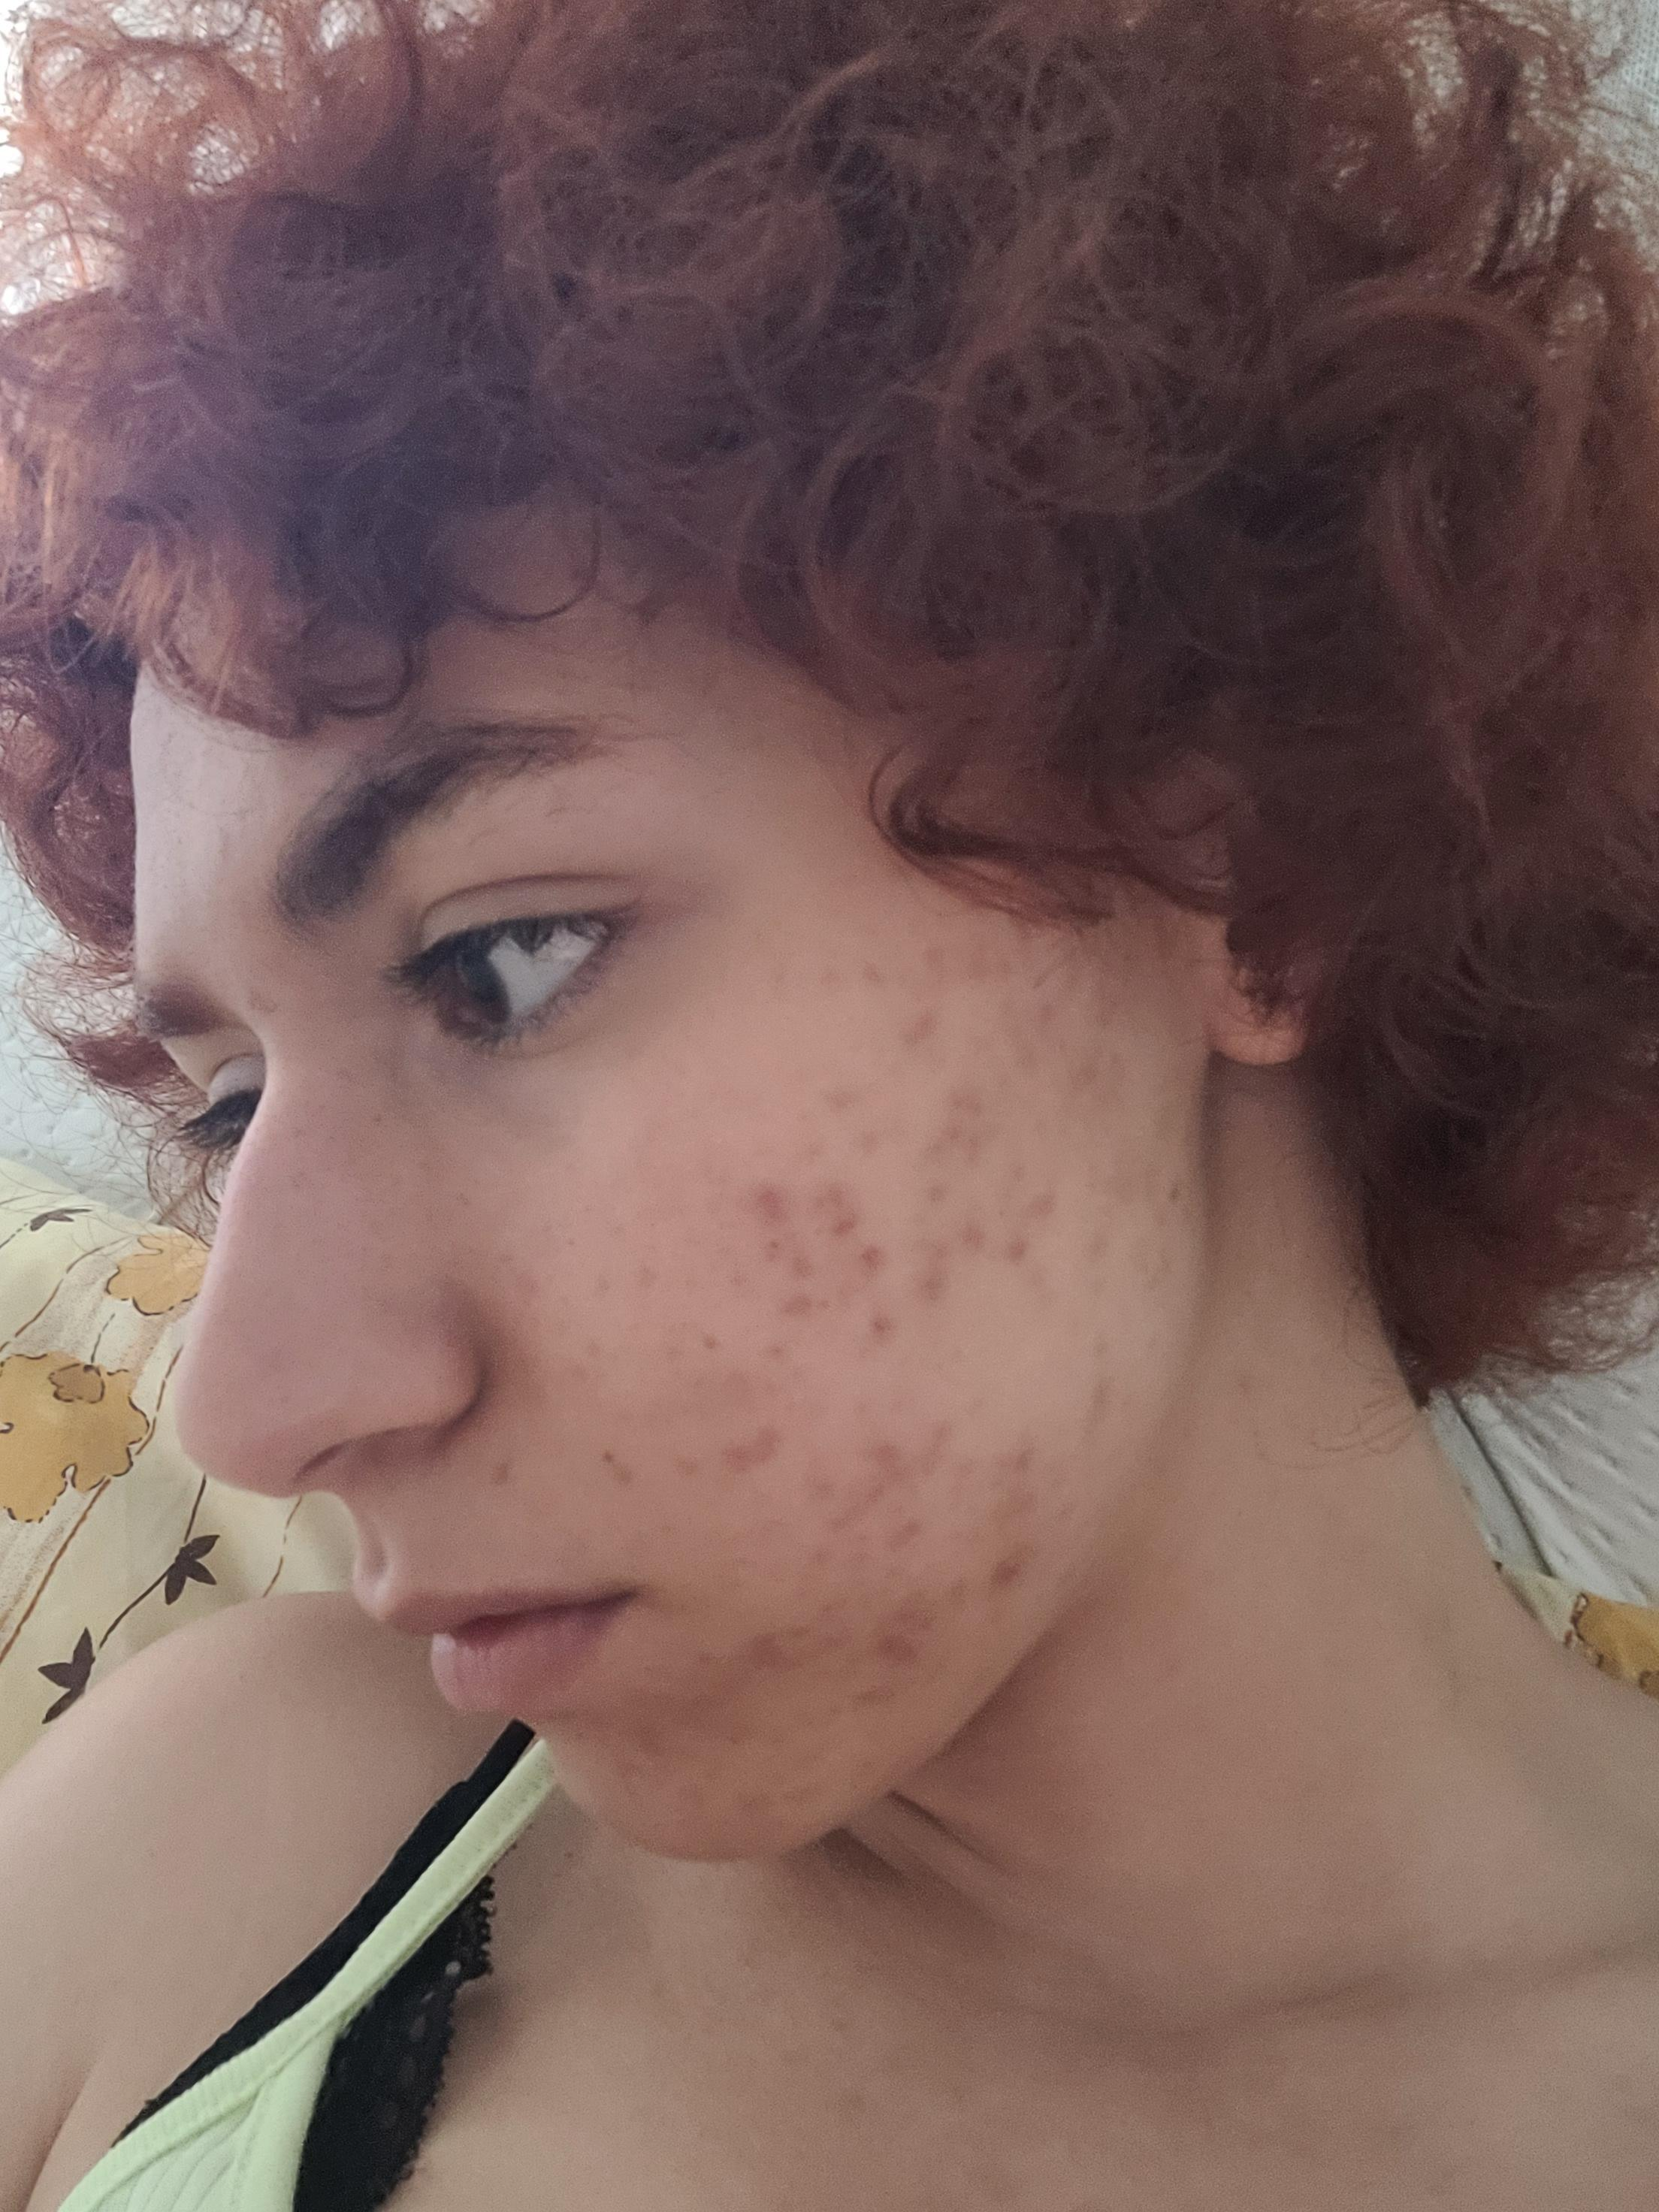Acne: (870, 1581, 946, 1672), (805, 1174, 866, 1242), (826, 1484, 896, 1541), (720, 1418, 788, 1475), (903, 1235, 948, 1320), (756, 1615, 817, 1676), (911, 1122, 988, 1167), (985, 1538, 1042, 1592), (1002, 1444, 1042, 1517), (1075, 1374, 1115, 1442), (613, 1728, 659, 1785), (917, 1414, 953, 1479), (896, 1005, 945, 1050), (587, 1446, 641, 1484), (882, 1512, 929, 1554), (866, 1439, 906, 1486), (1068, 1047, 1107, 1096), (1014, 1186, 1061, 1224), (849, 1677, 897, 1714), (950, 1217, 992, 1259), (725, 1777, 770, 1815), (781, 1773, 828, 1808), (847, 1125, 885, 1167), (857, 1308, 901, 1345), (213, 817, 237, 878), (246, 979, 282, 1019), (1007, 1036, 1047, 1073), (967, 937, 1012, 968), (772, 1291, 819, 1318), (756, 1226, 782, 1275), (854, 1237, 887, 1275), (943, 1083, 983, 1115), (1000, 1233, 1032, 1270), (751, 1184, 781, 1223), (1103, 1043, 1129, 1085), (856, 954, 889, 984), (789, 1251, 819, 1284), (1091, 1332, 1122, 1360), (917, 937, 943, 970), (920, 1179, 950, 1207), (824, 1089, 857, 1113), (1089, 1224, 1110, 1263), (762, 1339, 796, 1362), (1168, 1176, 1187, 1214), (816, 965, 840, 995), (1007, 1155, 1028, 1188), (1037, 995, 1060, 1024), (702, 1327, 723, 1359), (488, 1458, 511, 1486), (988, 995, 1007, 1026), (695, 1642, 720, 1665), (680, 1454, 706, 1475)
